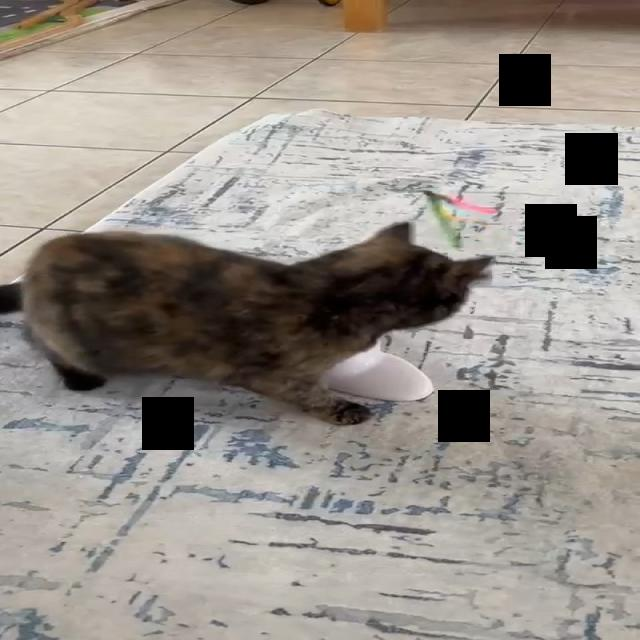authorized: (0, 220, 493, 425)
